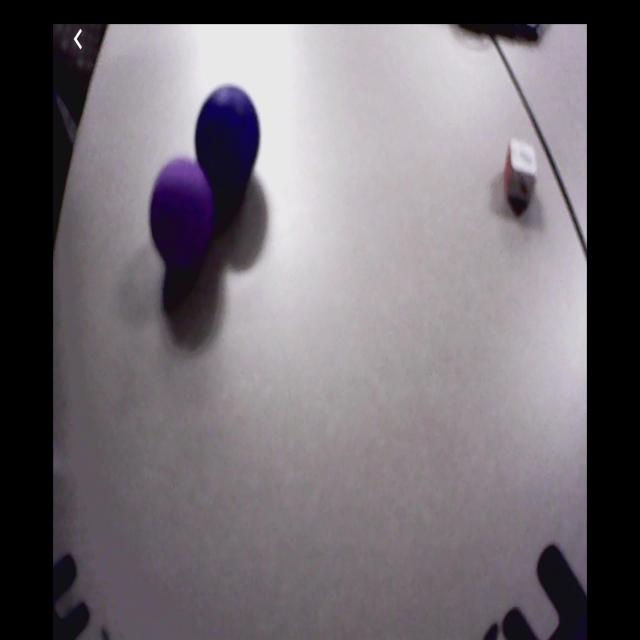ball: (196, 85, 261, 187), (150, 159, 212, 262)
